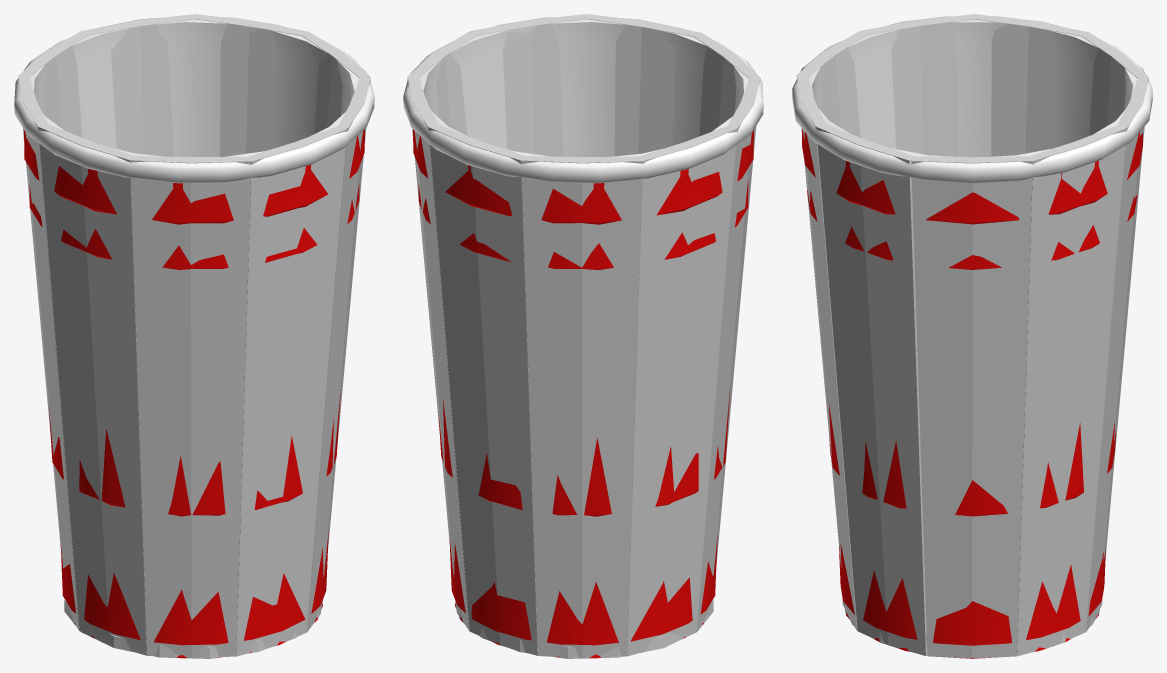
Rendered from solo cup_collision.fbx.
3 views of the same model, side by side, from view 1: azimuth 30°, elevation 25°; view 2: azimuth 150°, elevation 25°; view 3: azimuth 270°, elevation 25° (orthographic).
Parts seen in each view (by area): view 1: soloCup.001, Cube.008, Cube.007, Cube.006, Cube.009, Cube.003, Cube.000, Cube.005, Cube.004, Cube.002, Cube.001; view 2: soloCup.001, Cube.004, Cube.003, Cube.005, Cube.007, Cube.009, Cube.006, Cube.000, Cube.008, Cube.002, Cube.001; view 3: Cube.002, soloCup.001, Cube.009, Cube.000, Cube.005, Cube.006, Cube.003, Cube.007, Cube.008, Cube.004.
Boxes of the visible parts, x1=… form: soloCup.001: x1=14, y1=17, x2=374, y2=658; Cube.008: x1=129, y1=155, x2=252, y2=658; Cube.007: x1=236, y1=125, x2=346, y2=656; Cube.006: x1=37, y1=124, x2=147, y2=655; Cube.009: x1=306, y1=77, x2=370, y2=631; Cube.003: x1=81, y1=14, x2=198, y2=156; Cube.000: x1=191, y1=14, x2=309, y2=156; Cube.005: x1=18, y1=75, x2=79, y2=630; Cube.004: x1=18, y1=31, x2=87, y2=549; Cube.002: x1=302, y1=32, x2=370, y2=133; Cube.001: x1=64, y1=599, x2=318, y2=658; soloCup.001: x1=403, y1=17, x2=763, y2=658; Cube.004: x1=520, y1=156, x2=643, y2=658; Cube.003: x1=428, y1=123, x2=537, y2=655; Cube.005: x1=627, y1=124, x2=737, y2=655; Cube.007: x1=584, y1=14, x2=701, y2=156; Cube.009: x1=470, y1=14, x2=587, y2=156; Cube.006: x1=696, y1=77, x2=760, y2=631; Cube.000: x1=407, y1=75, x2=469, y2=630; Cube.008: x1=692, y1=33, x2=760, y2=565; Cube.002: x1=407, y1=32, x2=477, y2=544; Cube.001: x1=459, y1=599, x2=713, y2=658; Cube.002: x1=911, y1=156, x2=1033, y2=658; soloCup.001: x1=792, y1=16, x2=1152, y2=658; Cube.009: x1=816, y1=123, x2=927, y2=655; Cube.000: x1=1017, y1=124, x2=1127, y2=656; Cube.005: x1=971, y1=14, x2=1088, y2=156; Cube.006: x1=860, y1=14, x2=977, y2=156; Cube.003: x1=1086, y1=76, x2=1148, y2=631; Cube.007: x1=797, y1=74, x2=857, y2=630; Cube.008: x1=796, y1=31, x2=868, y2=543; Cube.004: x1=1079, y1=32, x2=1149, y2=560.
Size of the model in its own units: 13.65 by 21.55 by 13.68.
